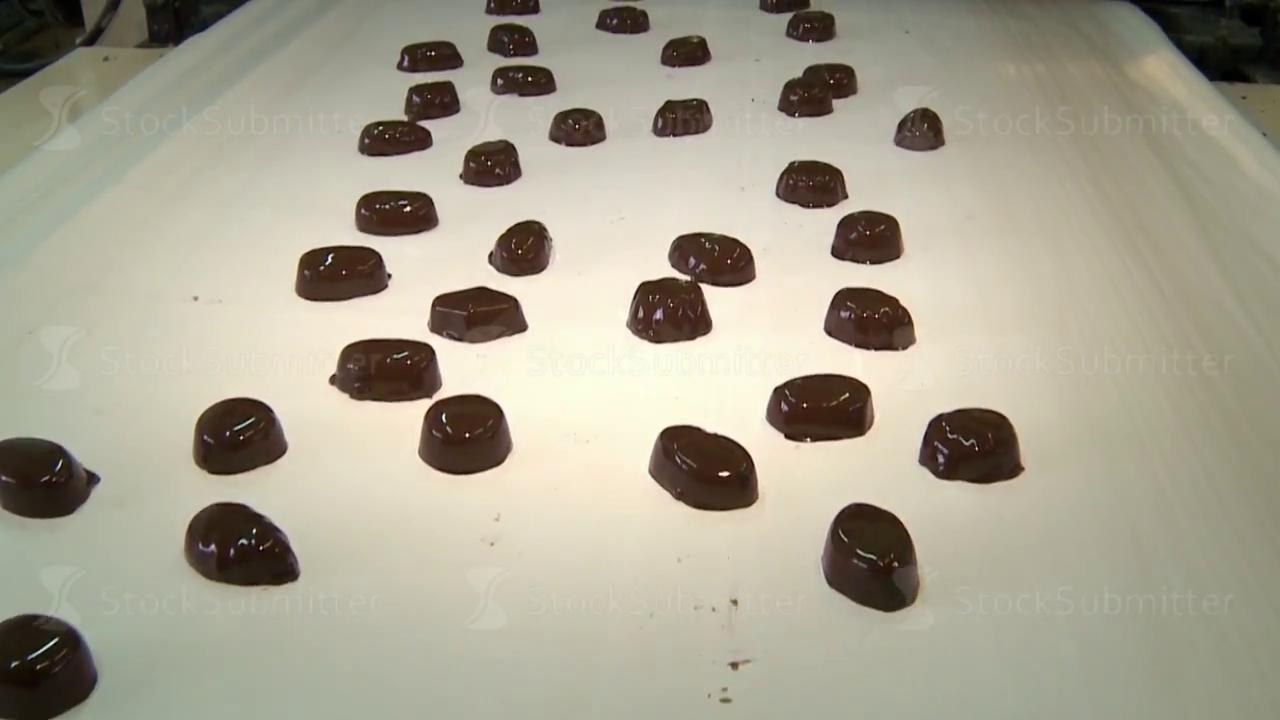chocolate: (821, 501, 920, 612), (0, 612, 98, 719), (184, 501, 300, 586), (648, 423, 758, 510), (0, 435, 100, 519), (918, 407, 1023, 483), (418, 393, 512, 474), (766, 373, 874, 442), (192, 396, 287, 474), (329, 338, 441, 402), (823, 286, 916, 351), (626, 276, 712, 343), (428, 285, 527, 343), (295, 245, 390, 301), (668, 231, 756, 286), (831, 210, 903, 264), (355, 189, 438, 235), (488, 219, 553, 276), (775, 159, 848, 208), (460, 139, 521, 186), (358, 119, 432, 156), (652, 98, 712, 137), (778, 76, 833, 117), (894, 107, 945, 151), (549, 107, 606, 146), (405, 79, 460, 119), (397, 40, 463, 72), (490, 65, 556, 96), (487, 22, 538, 57), (660, 35, 711, 67), (786, 10, 835, 42), (595, 6, 650, 34)
